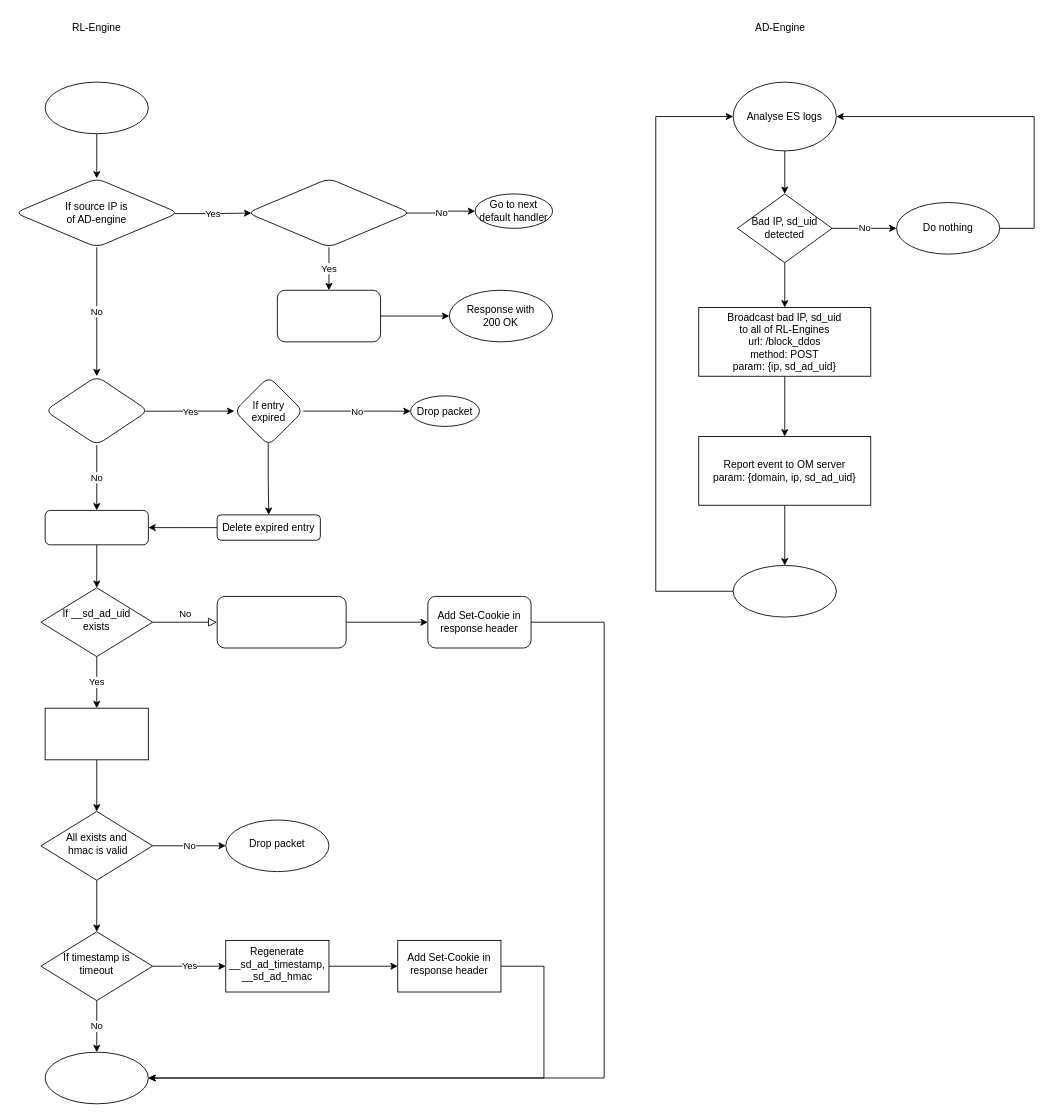
Image size: 1056x1119. Some labels were removed from this diagram. The shapes that lost their labels are listed below. From the top down, each one's centre as x and y in pixels, then its label:
the point at 96,107: Receives request
the point at 328,212: If url is same with /block_ddos
the point at 328,315: add ip, sd_ad_uid in the black list with expiry timestamp
the point at 96,410: If IP, sd_uid is in black list
the point at 96,527: Check cookie __sd_ad_uid
the point at 784,591: Continue running
the point at 281,622: Generate __sd_ad_uid, __sd_ad_timestamp, __sd_ad_hmac cookie
the point at 96,733: Check and validate __sd_ad_timestamp __sd_ad_hmac
the point at 96,1077: Go to next default handler (rate limit)
